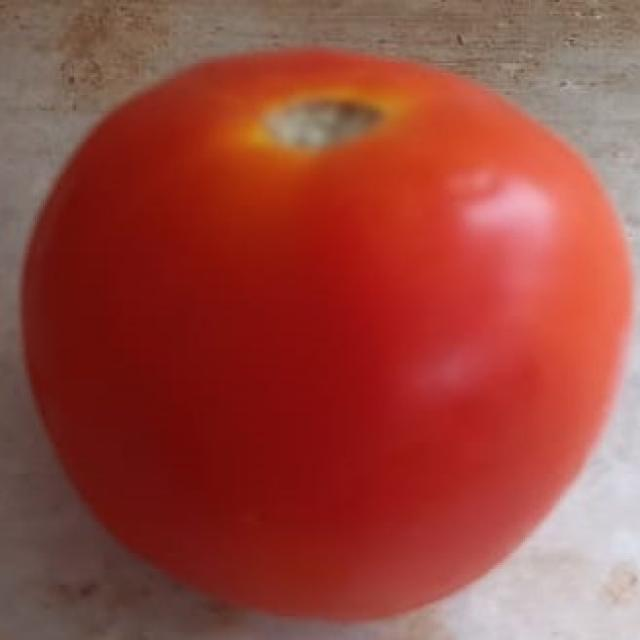ripe tomato: (32, 24, 637, 602)
